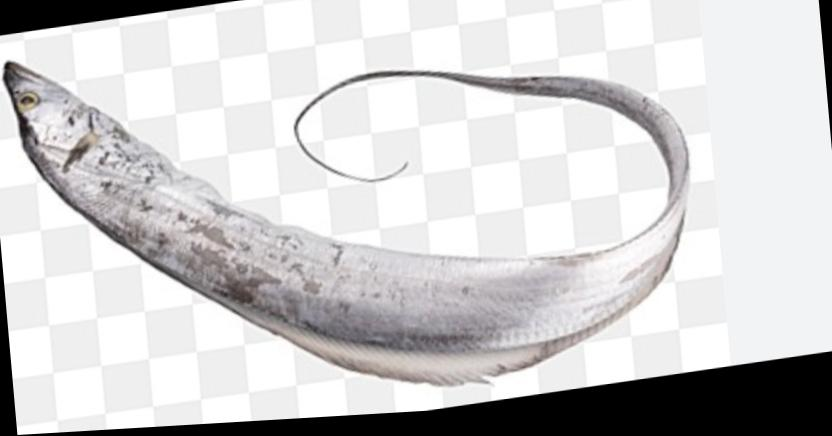fish: (3, 61, 689, 391)
